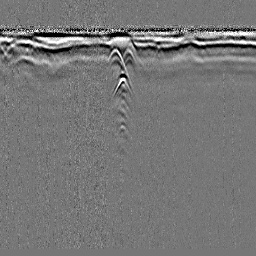cavity: (121, 47, 138, 63)
